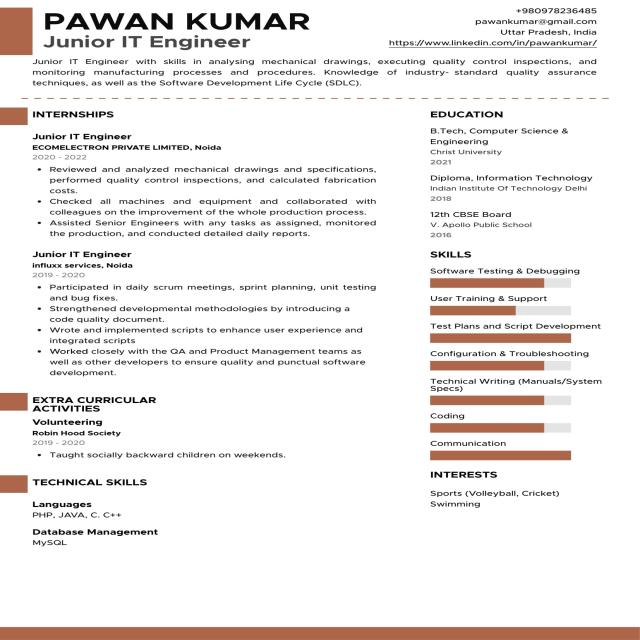contact: (385, 3, 610, 51)
education: (422, 106, 598, 245)
experience: (0, 105, 381, 382)
header: (40, 8, 323, 52)
skills: (422, 249, 613, 464), (0, 461, 227, 568)
summary: (28, 56, 602, 90)
